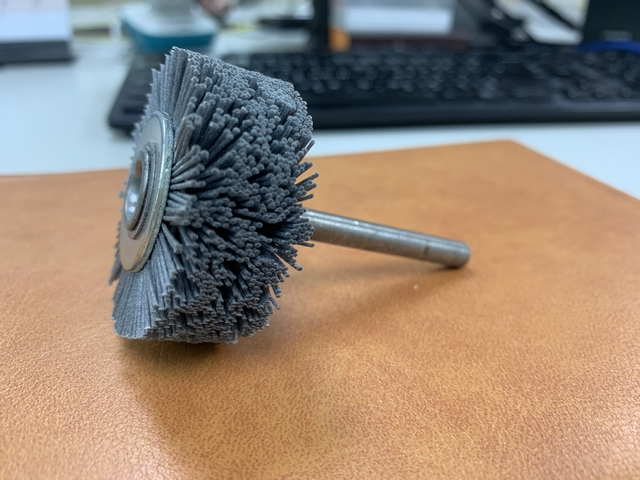Wheel Brush: (67, 35, 516, 362), (109, 52, 532, 341)
